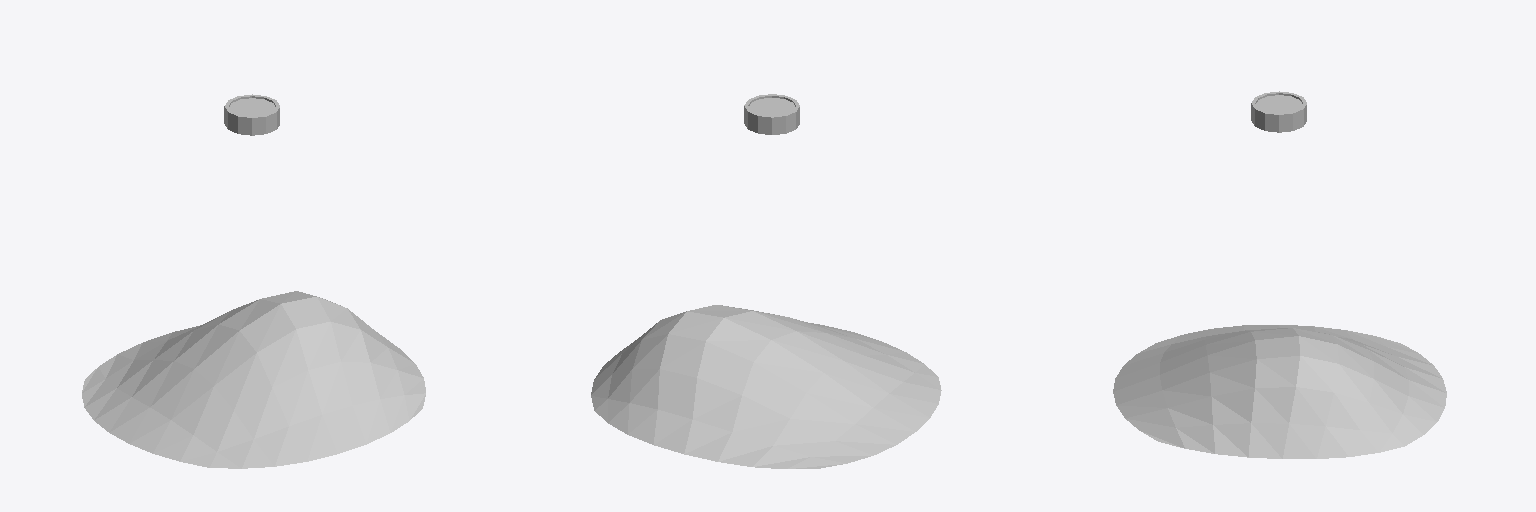
File: TrashPile.ver1.obj
3 views of the same model, side by side, from view 1: azimuth 30°, elevation 25°; view 2: azimuth 150°, elevation 25°; view 3: azimuth 270°, elevation 25° (orthographic).
Visible parts, largest first — view 1: Plane.004_Plane.015, Cylinder.003_Cylinder.015; view 2: Plane.004_Plane.015, Cylinder.003_Cylinder.015; view 3: Plane.004_Plane.015, Cylinder.003_Cylinder.015.
Part boxes in pixels (bbox=[...]): Plane.004_Plane.015: bbox=[82, 291, 425, 468]; Cylinder.003_Cylinder.015: bbox=[224, 94, 279, 135]; Plane.004_Plane.015: bbox=[591, 305, 941, 468]; Cylinder.003_Cylinder.015: bbox=[744, 94, 799, 134]; Plane.004_Plane.015: bbox=[1113, 325, 1446, 458]; Cylinder.003_Cylinder.015: bbox=[1251, 91, 1306, 132].
Bounding box in the file's own units: 1.86 × 1.82 × 1.82.